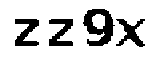9: (80, 2, 114, 50)
x: (115, 13, 147, 49)
z: (12, 13, 41, 52), (44, 15, 78, 48)
